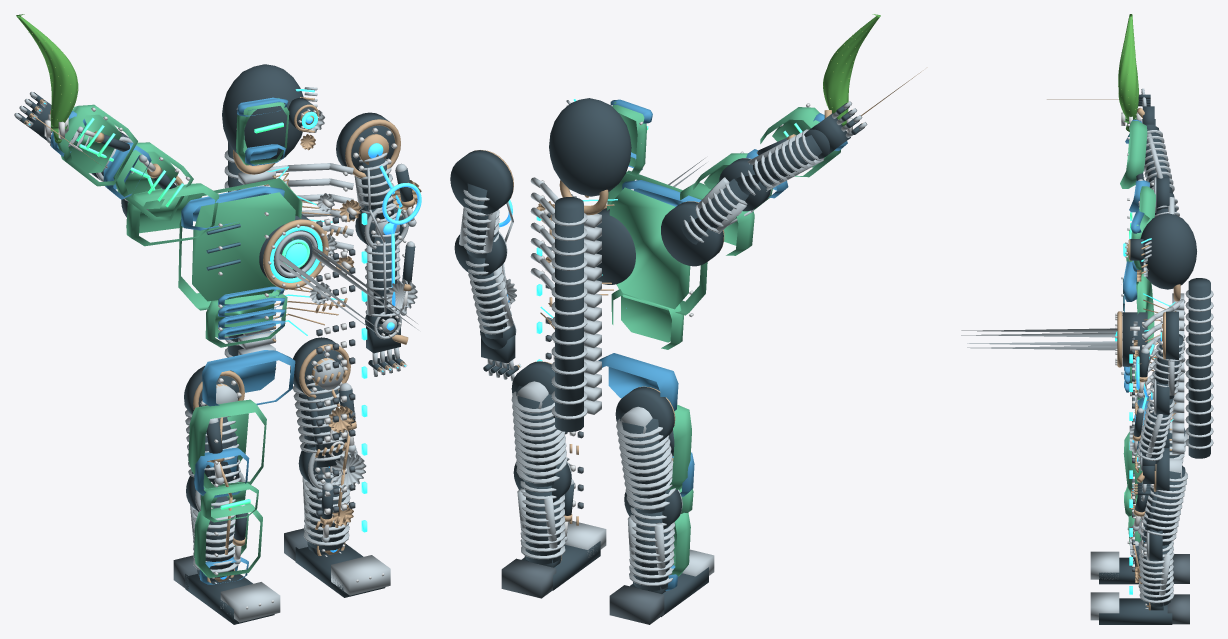
File: WORLDIFACT_EcoMech_Chili_V3_GAME.glb
3 views of the same model, side by side, from view 1: azimuth 30°, elevation 25°; view 2: azimuth 150°, elevation 25°; view 3: azimuth 270°, elevation 25° (orthographic). The views are drawn at different scales.
Visible parts, largest first — view 1: ARMOR|Left chest main ceramic shell|0001, MECH|Titanium skull|0084, ARMOR|ARMOR left forearm gauntlet|0014, ARMOR|Pelvis-armored-front|0000, ARMOR|ARMOR left shoulder pauldrons|0011, ARMOR|ARMOR left thigh main|0016, ARMOR|ARMOR left upper humerus plated shell|0012, DETAIL|GIANT-GREEN-CHILI-BODY|0255, CORE|Reactor concentric|0005, MECH|Right toe cap|0366, MECH|Left toe cap|0315, ARMOR|ARMOR left shin greave|0019 (+30 smaller); view 2: ARMOR|Left chest main ceramic shell|0001, MECH|Titanium skull|0084, MECH|Central-titanium-spine-inner|0000, MECH|Right shoulder pivot-socket|0187, ARMOR|Left abdomen assembly|0003, ARMOR|Pelvis-armored-front|0000, MECH|Left shoulder pivot-socket|0112, CORE|Reactor housing|0002, DETAIL|GIANT-GREEN-CHILI-BODY|0255, MECH|Left heel stabilizer|0314, MECH|Right heel stabilizer|0365, MECH|Left main femur axle-inner|0265 (+22 smaller); view 3: MECH|Central-titanium-spine-inner|0000, MECH|Titanium skull|0084, CORE|Reactor concentric|0005, DETAIL|GIANT-GREEN-CHILI-BODY|0255, MECH|Right segmented foot sole|0364, ARMOR|ARMOR left forearm gauntlet|0014, MECH|Right main femur axle-inner|0316, CORE|Reactor housing|0002, MECH|Left toe cap|0315, MECH|Right toe cap|0366, MECH|Right tibia structural strut-inner|0331, ARMOR|Left chest main ceramic shell|0001 (+14 smaller).
Boxes of the visible parts, box(x1,y1,x2,y2) form: ARMOR|Left chest main ceramic shell|0001: box(178, 178, 302, 310); MECH|Titanium skull|0084: box(222, 64, 303, 164); ARMOR|ARMOR left forearm gauntlet|0014: box(57, 104, 137, 186); ARMOR|Pelvis-armored-front|0000: box(202, 350, 295, 406); ARMOR|ARMOR left shoulder pauldrons|0011: box(126, 183, 219, 246); ARMOR|ARMOR left thigh main|0016: box(188, 399, 266, 488); ARMOR|ARMOR left upper humerus plated shell|0012: box(113, 142, 193, 221); DETAIL|GIANT-GREEN-CHILI-BODY|0255: box(16, 14, 78, 127); CORE|Reactor concentric|0005: box(274, 231, 417, 337); MECH|Right toe cap|0366: box(331, 555, 390, 595); MECH|Left toe cap|0315: box(220, 582, 280, 622); ARMOR|ARMOR left shin greave|0019: box(194, 503, 262, 578); ARMOR|Left chest main ceramic shell|0001: box(607, 170, 707, 315); MECH|Titanium skull|0084: box(549, 98, 631, 196); MECH|Central-titanium-spine-inner|0000: box(555, 197, 583, 431); MECH|Right shoulder pivot-socket|0187: box(450, 150, 513, 214); ARMOR|Left abdomen assembly|0003: box(611, 289, 683, 349); ARMOR|Pelvis-armored-front|0000: box(598, 353, 678, 410); MECH|Left shoulder pivot-socket|0112: box(661, 201, 723, 266); CORE|Reactor housing|0002: box(596, 208, 635, 284); DETAIL|GIANT-GREEN-CHILI-BODY|0255: box(823, 14, 880, 124); MECH|Left heel stabilizer|0314: box(609, 585, 664, 624); MECH|Right heel stabilizer|0365: box(501, 558, 556, 598); MECH|Left main femur axle-inner|0265: box(620, 412, 669, 513); MECH|Central-titanium-spine-inner|0000: box(1188, 278, 1210, 458); MECH|Titanium skull|0084: box(1139, 213, 1196, 289); CORE|Reactor concentric|0005: box(961, 328, 1117, 350); DETAIL|GIANT-GREEN-CHILI-BODY|0255: box(1118, 14, 1138, 119); MECH|Right segmented foot sole|0364: box(1099, 598, 1172, 624); ARMOR|ARMOR left forearm gauntlet|0014: box(1120, 121, 1147, 188); MECH|Right main femur axle-inner|0316: box(1140, 465, 1185, 545); CORE|Reactor housing|0002: box(1122, 312, 1147, 366); MECH|Left toe cap|0315: box(1090, 551, 1119, 579); MECH|Right toe cap|0366: box(1090, 592, 1119, 620); MECH|Right tibia structural strut-inner|0331: box(1142, 541, 1170, 606); ARMOR|Left chest main ceramic shell|0001: box(1123, 262, 1154, 350).
Bounding box in the file's own units: 3.02 × 4.51 × 2.17.
